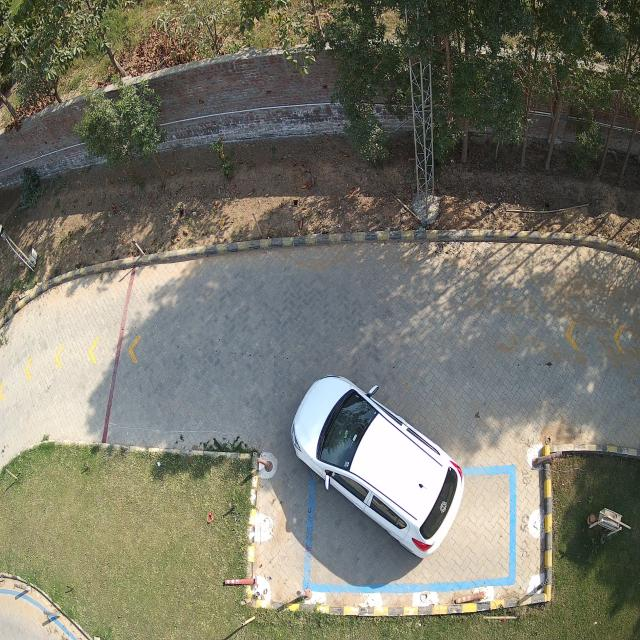car: (290, 377, 464, 560)
